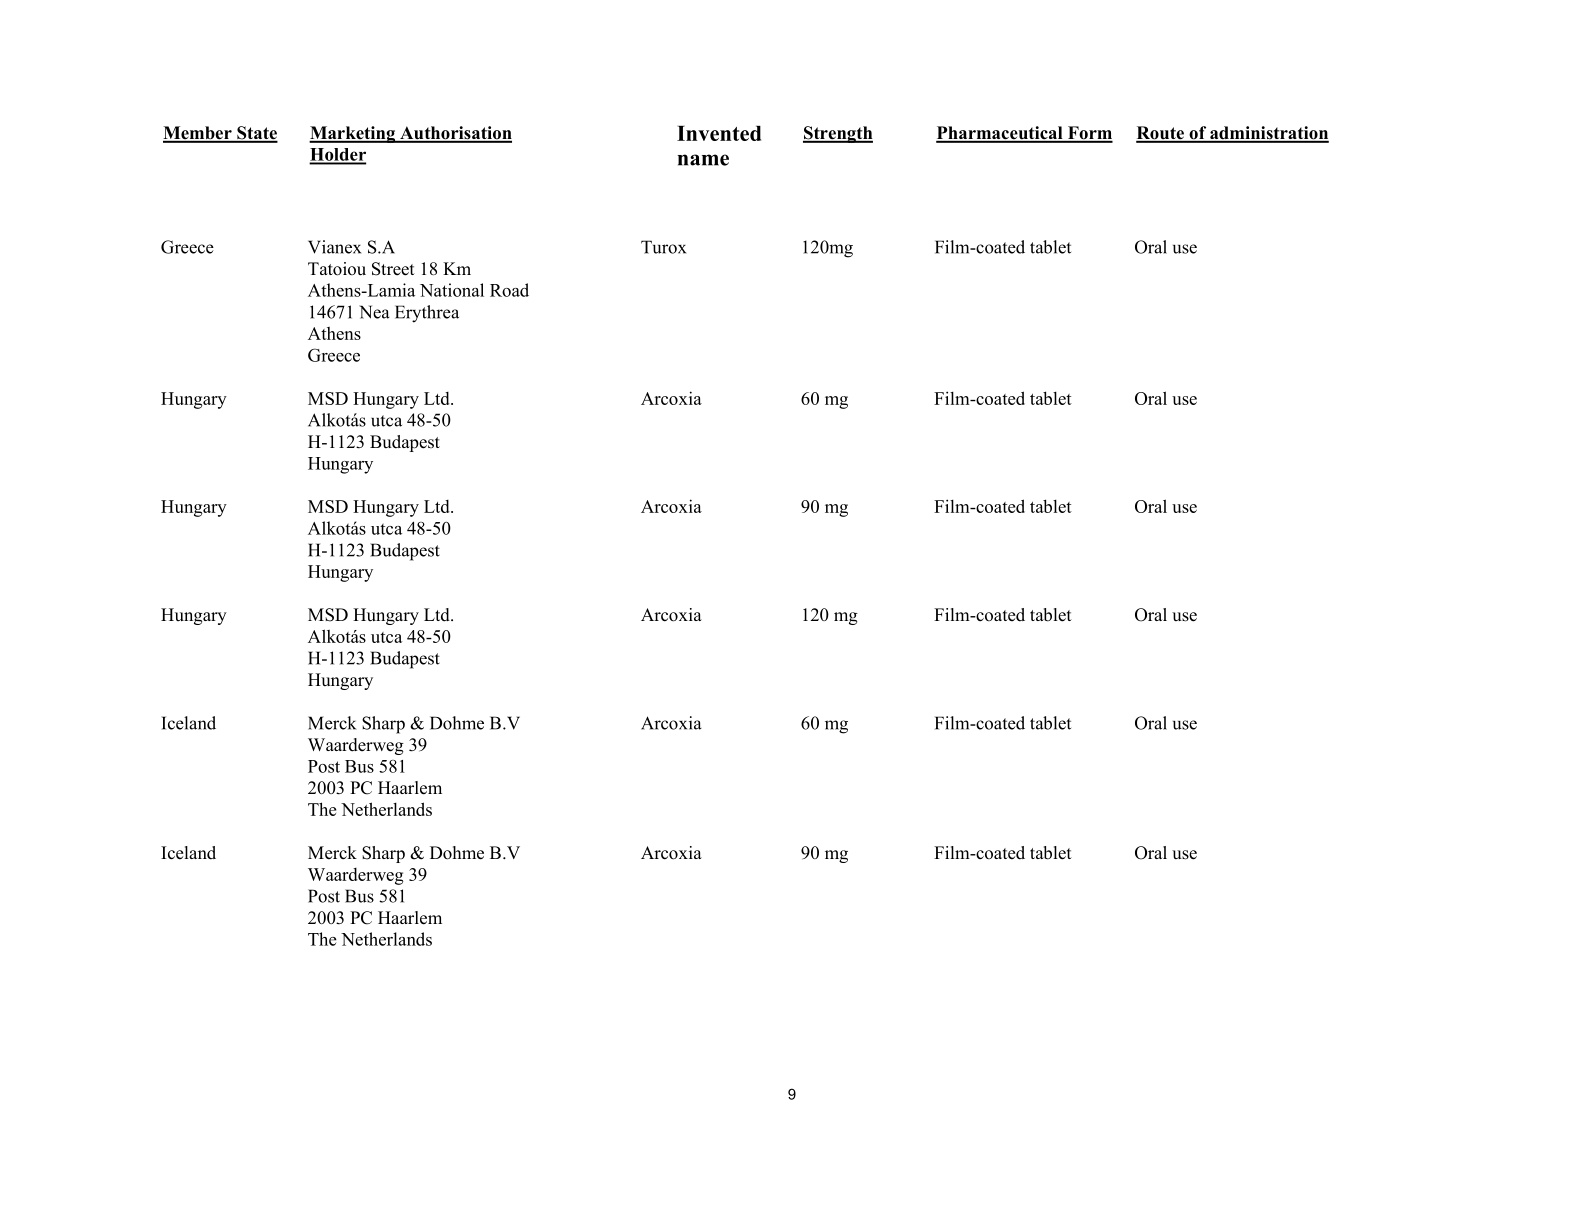nolines: (159, 120, 1335, 953)
